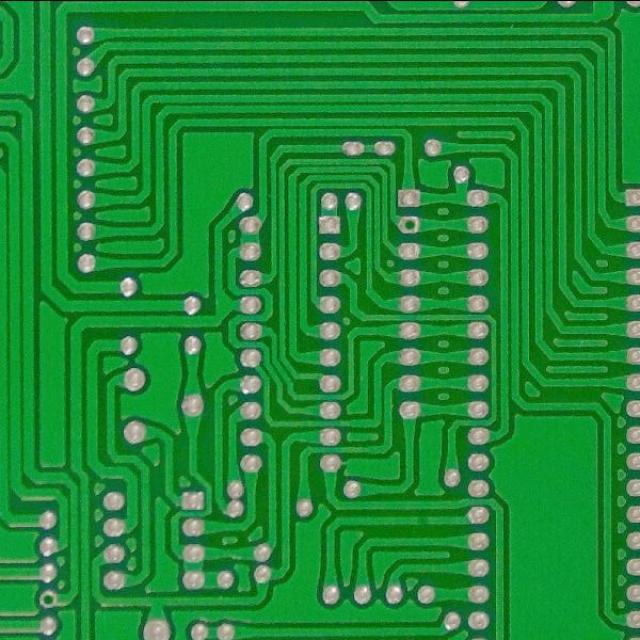missing_hole: (396, 213, 422, 235), (36, 586, 58, 609)
